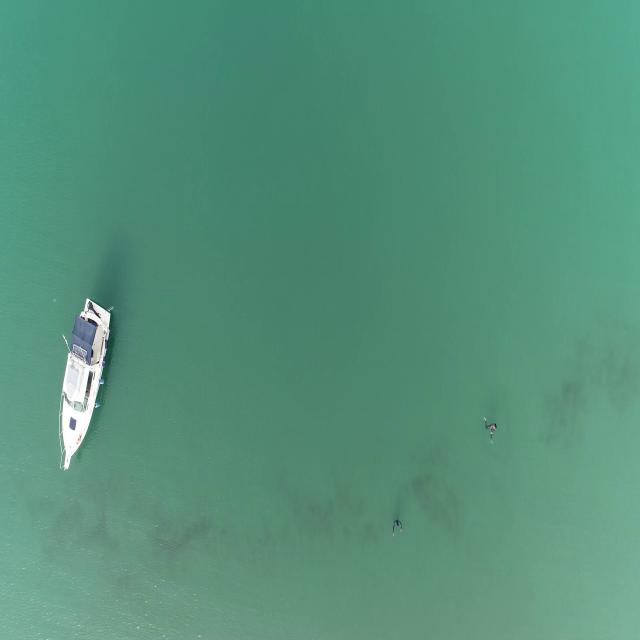boat: (53, 298, 114, 472)
person: (482, 418, 497, 441), (390, 518, 404, 541)
